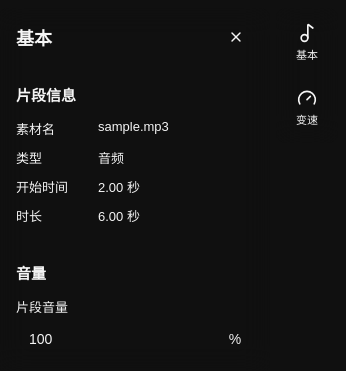
Test: FloatingInspector › renders the audio-specific rail and panel
Expected: the icon with class "lucide-music-2" is shown, [297,23,317,43]
Expected: the text "sample.mp3" is shown, [98,119,169,134]
Click the button "变速" at (307,108), box [281,78,333,138]
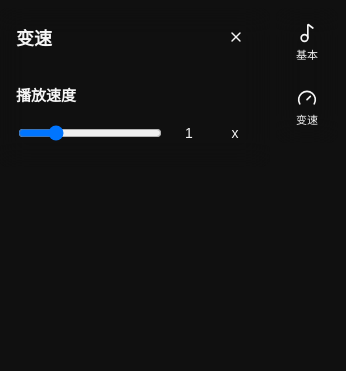
Result: the slider named "播放速度滑块" holds "1" at [18,124,162,142]
Result: the number field named "播放速度" holds "1" at [173,118,219,148]
